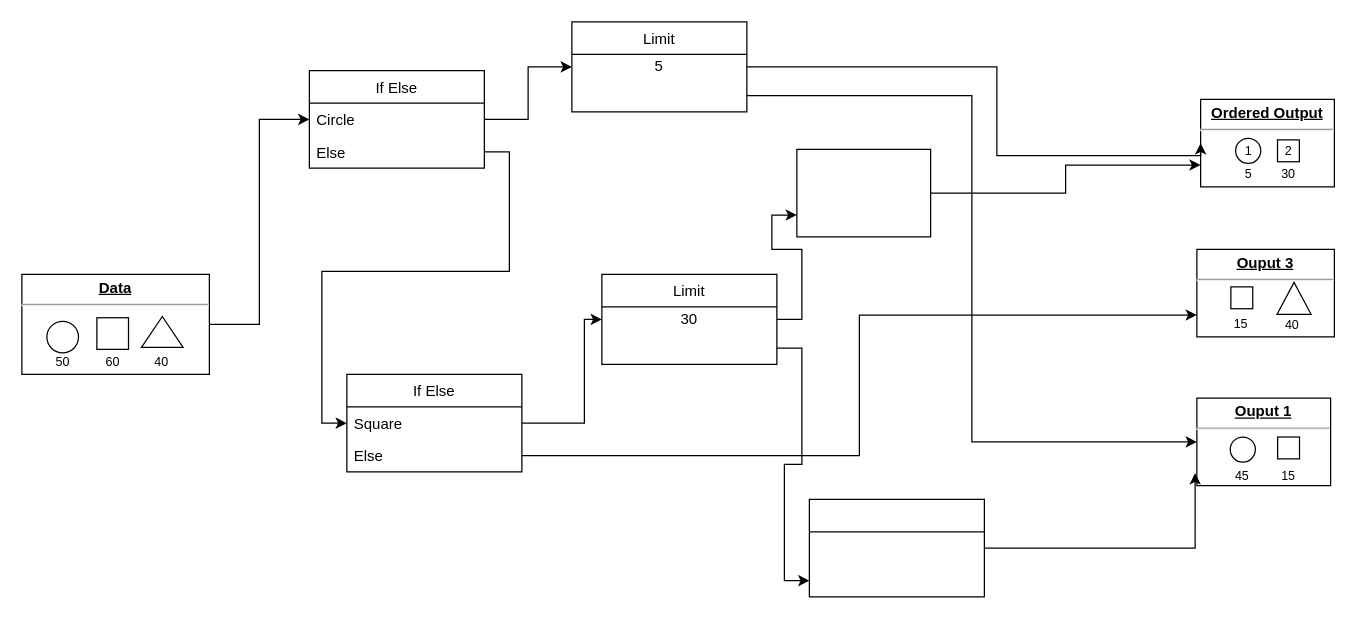
Some shapes in this 1356 by 623 pixel diagram are drawn without their labels. Each missing label, with the centre of its shape:
"Alternate" belongs at point (896, 547).
"Halt" belongs at point (863, 192).
